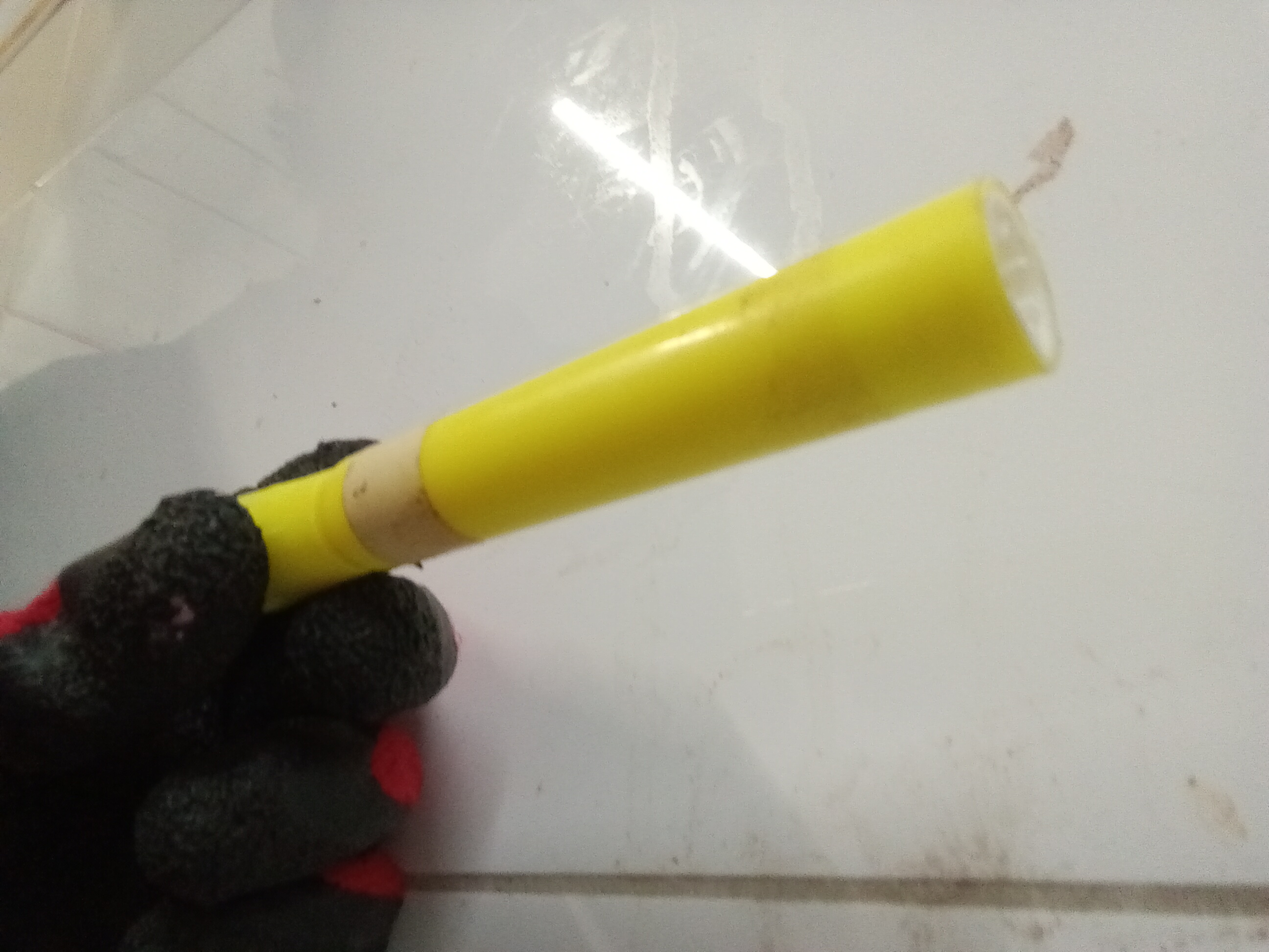Ordinario: (232, 179, 1059, 613)
